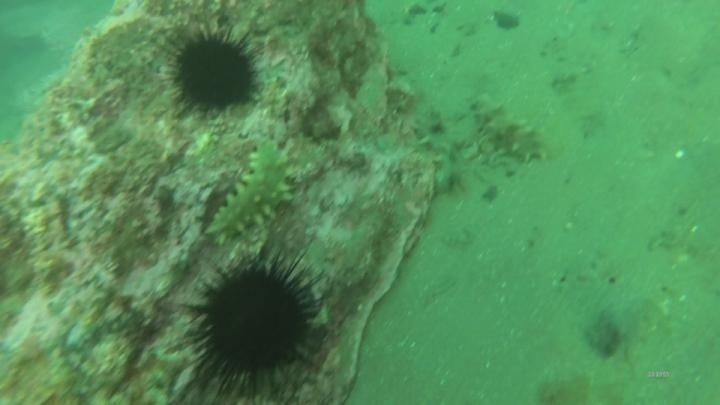echinus: (173, 243, 332, 400), (165, 25, 263, 118)
holothurian: (203, 137, 299, 246), (468, 91, 562, 167), (409, 103, 470, 195)
